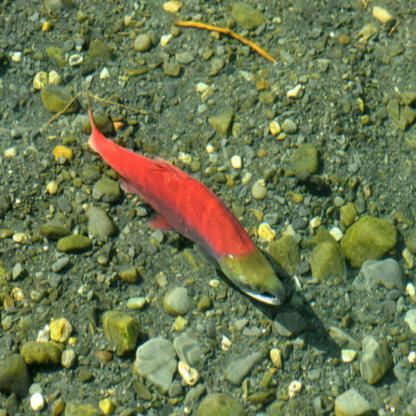sockeye: (85, 92, 293, 309)
